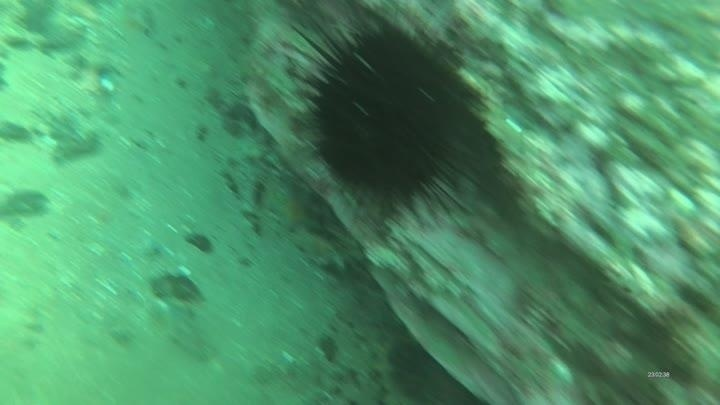echinus: (287, 15, 492, 225)
starfish: (262, 179, 325, 236)
